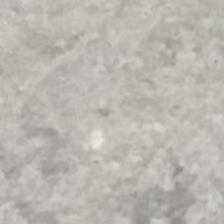Non_Crack: (28, 21, 195, 181)
